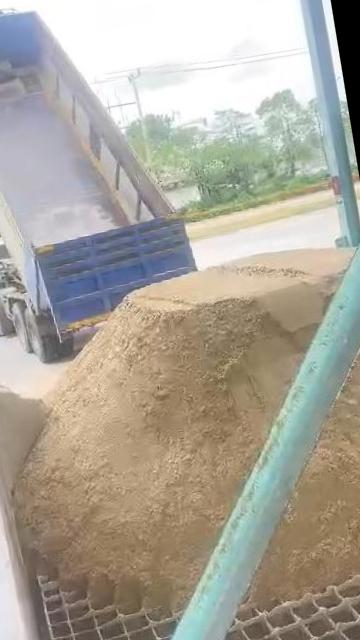sand: (17, 250, 348, 610), (251, 318, 360, 603), (0, 377, 46, 501)
